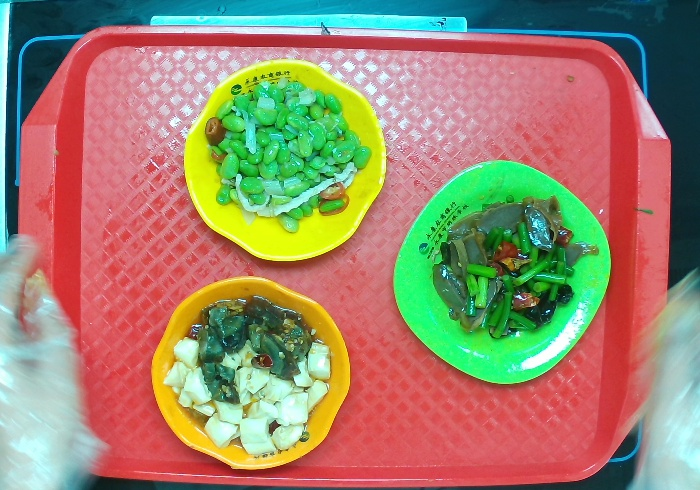YKMZ-Huang_Se_Ao_Bian_Wan: (178, 54, 393, 266)
YKMZ-Ju_Se_Ao_Bian_Wan: (145, 270, 361, 474)
YKMZ-Lv_Se_Fang_Die: (386, 154, 615, 395)
